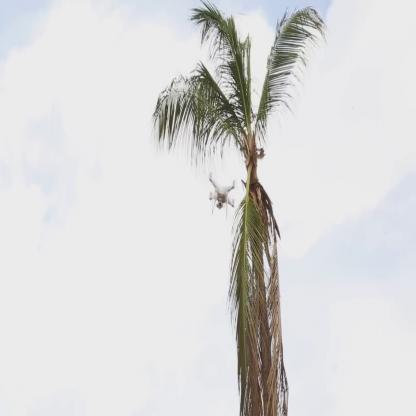drone: (205, 168, 236, 220)
